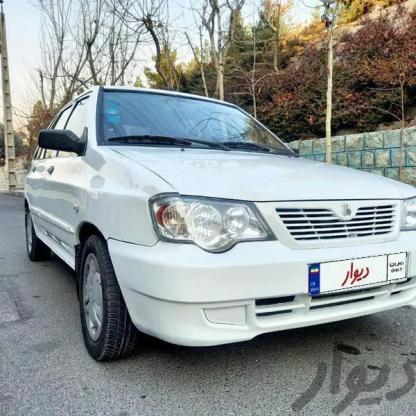Car: (9, 73, 416, 367)
